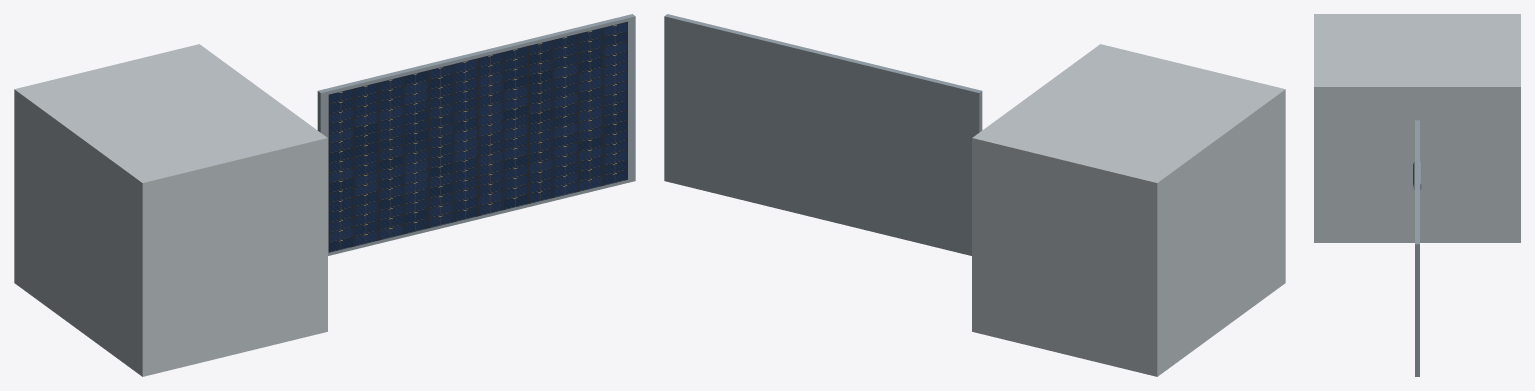
Rendered from ref-sstl-100-27559.glb.
3 views of the same model, side by side, from view 1: azimuth 30°, elevation 25°; view 2: azimuth 150°, elevation 25°; view 3: azimuth 270°, elevation 25° (orthographic). The views are drawn at different scales.
Visible parts, largest first — view 1: Spacecraft body, Photovoltaic laminates, Array frame; view 2: Spacecraft body, Array frame; view 3: Spacecraft body, Array frame.
Boxes of the visible parts, <box> form: Spacecraft body: <box>14,44,327,376</box>; Photovoltaic laminates: <box>328,21,627,252</box>; Array frame: <box>317,14,635,255</box>; Spacecraft body: <box>972,44,1285,376</box>; Array frame: <box>664,14,982,255</box>; Spacecraft body: <box>1314,14,1520,242</box>; Array frame: <box>1415,120,1419,376</box>.
Size of the model in its own units: 3 by 1 by 1.2.
Materials: 3 (1 with a texture image).
